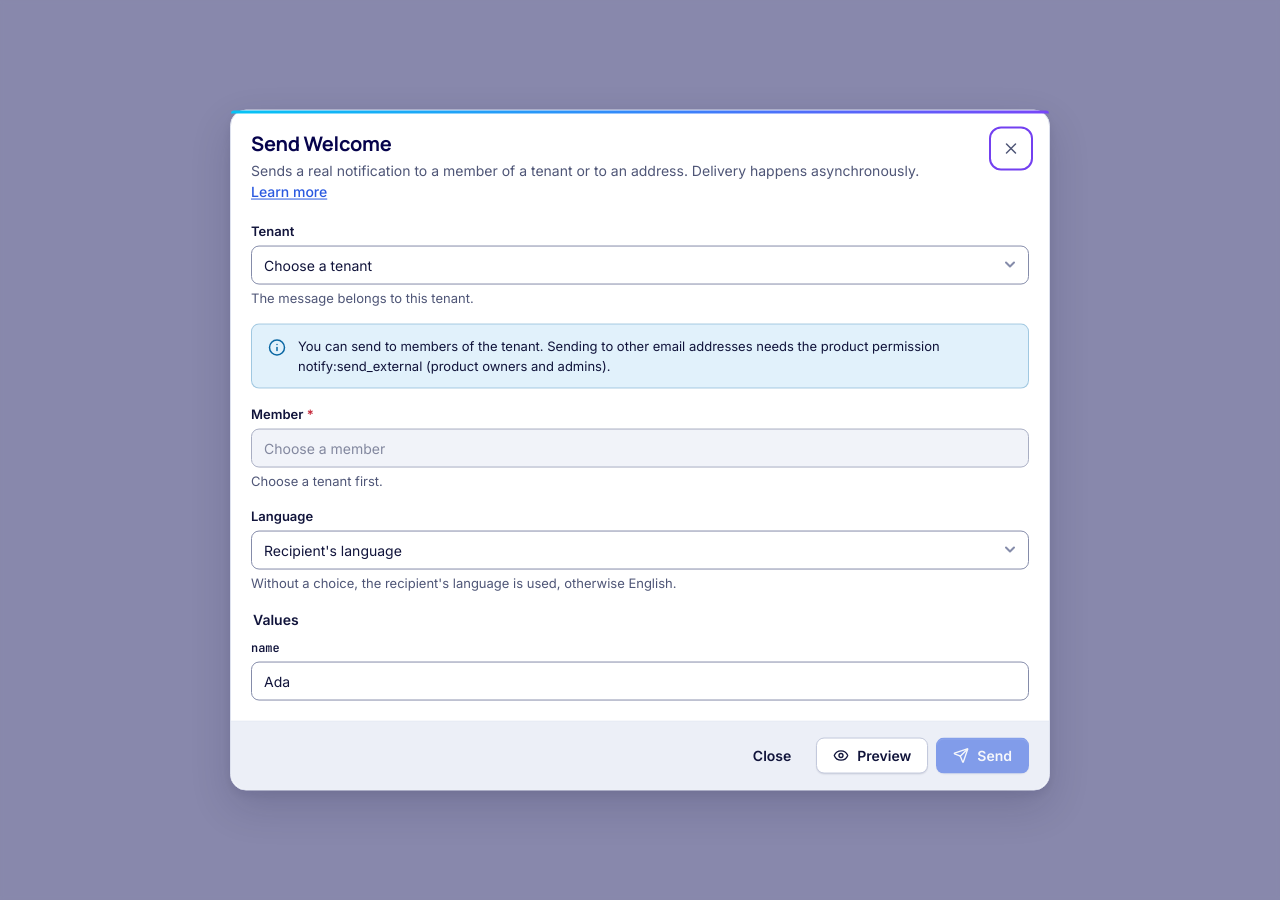
SendTestDialog › renews the Idempotency-Key after a 409 and explains the conflict
Select "Acme" in the dropdown labelled "Tenant": (640, 264) x1=251 y1=245 x2=1029 y2=284
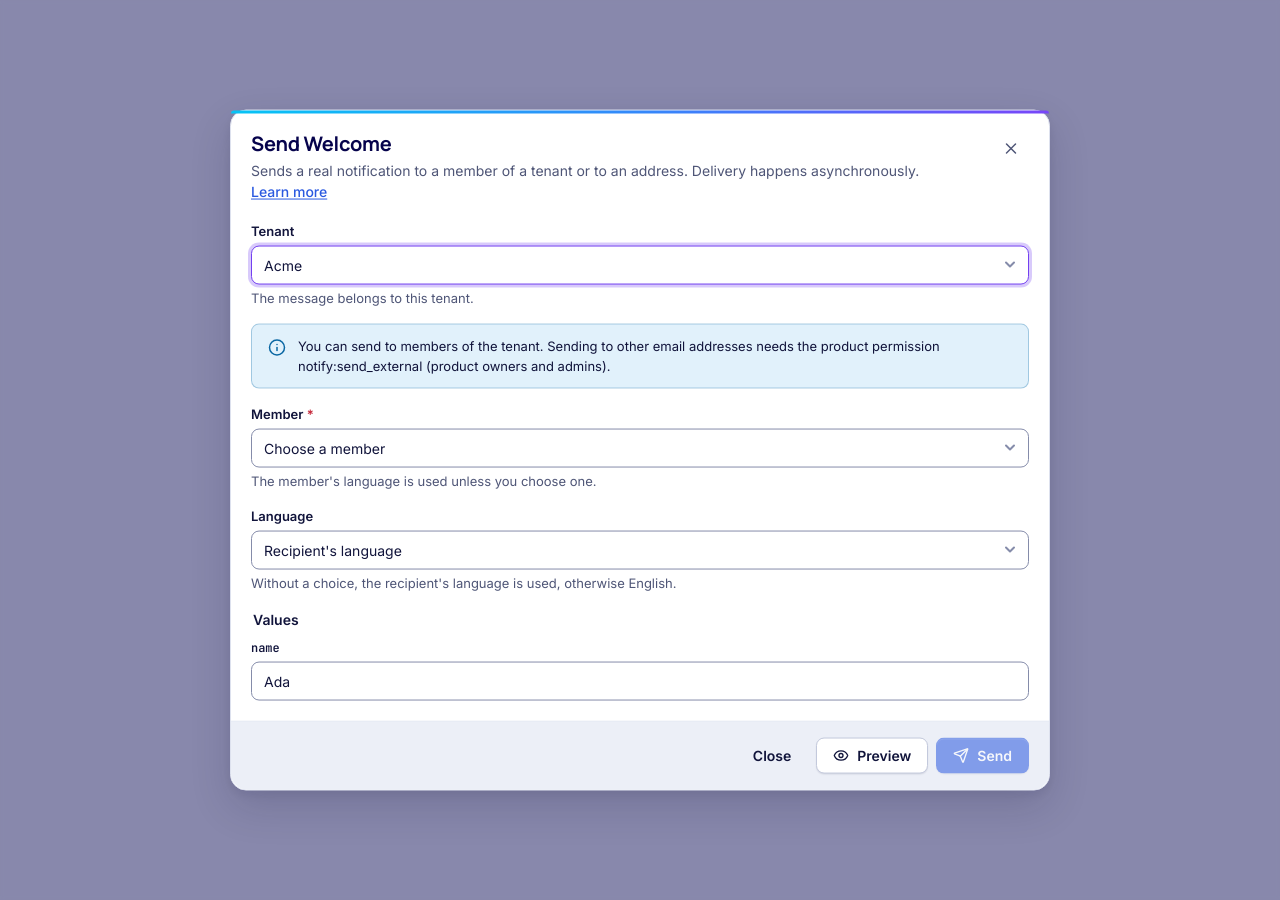
Select "Ada <ada@example.com>" in the dropdown labelled "Member *": (640, 448) x1=251 y1=428 x2=1029 y2=467
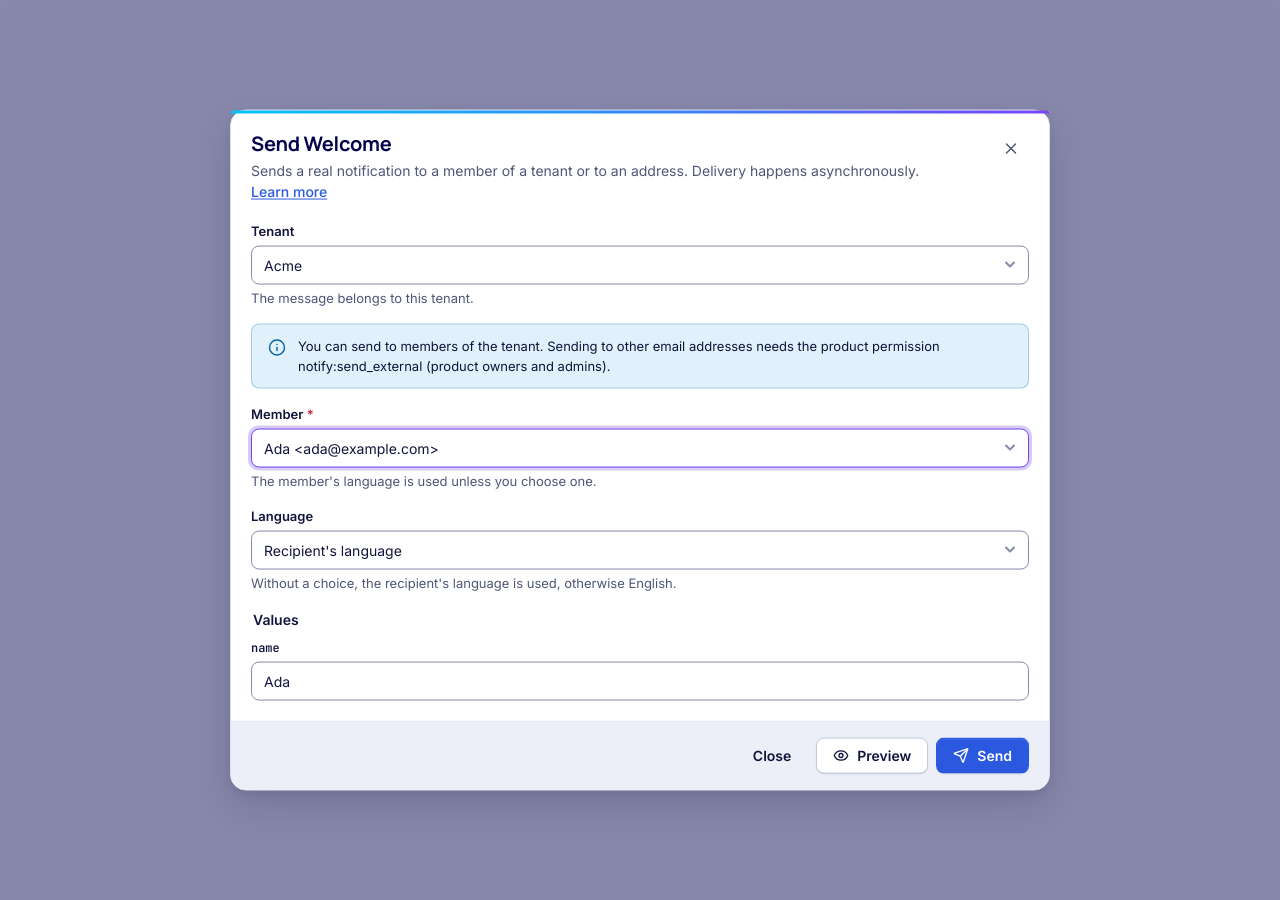
Click the button "Send": (983, 756) x1=936 y1=738 x2=1029 y2=774
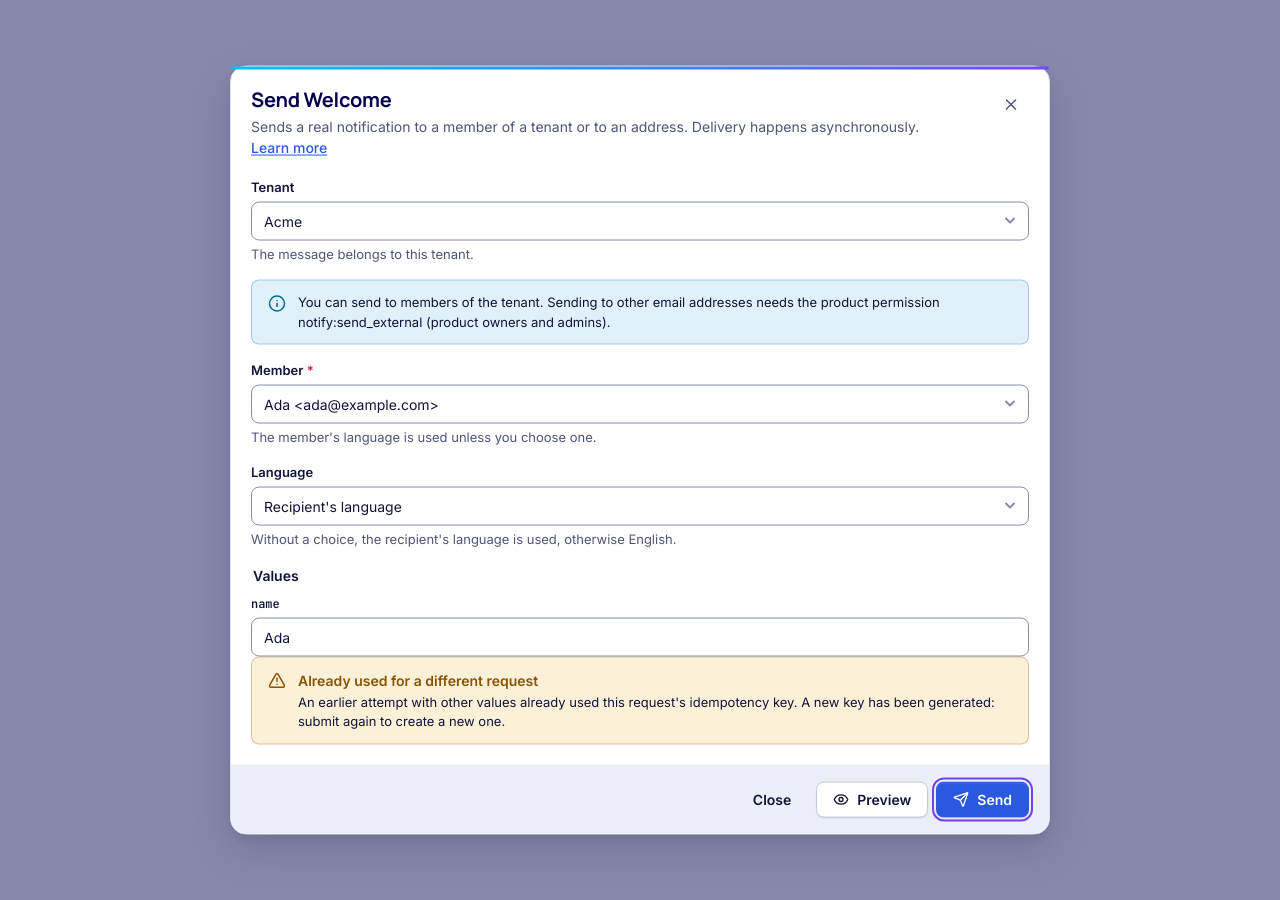
Now the text "Already used for a different request" is shown, box x1=298 y1=672 x2=538 y2=688
Click the button "Send": (983, 800) x1=936 y1=782 x2=1029 y2=818
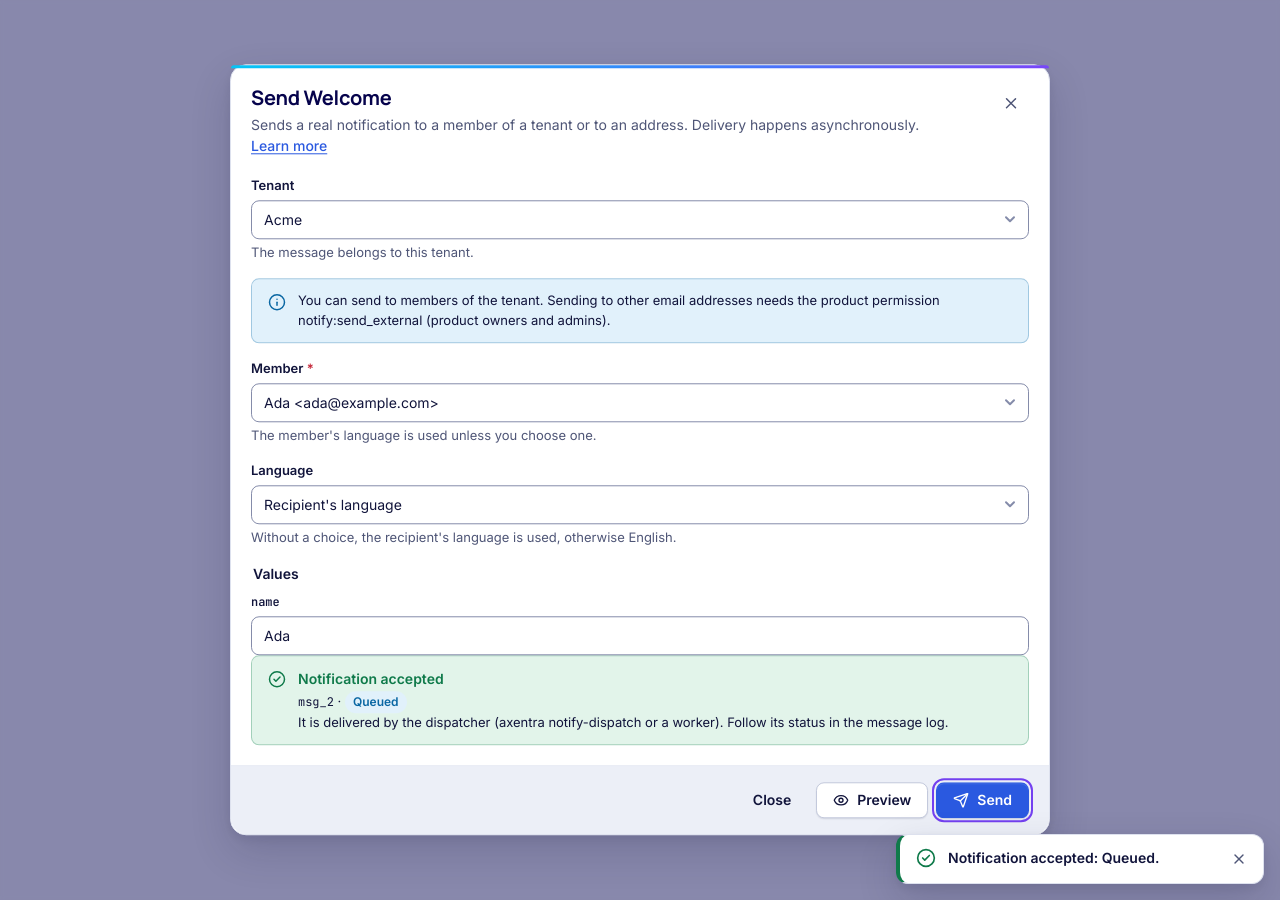
Now the text "msg_2" is shown, box x1=298 y1=694 x2=334 y2=710
